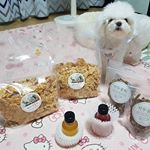puppy: (97, 2, 139, 78)
